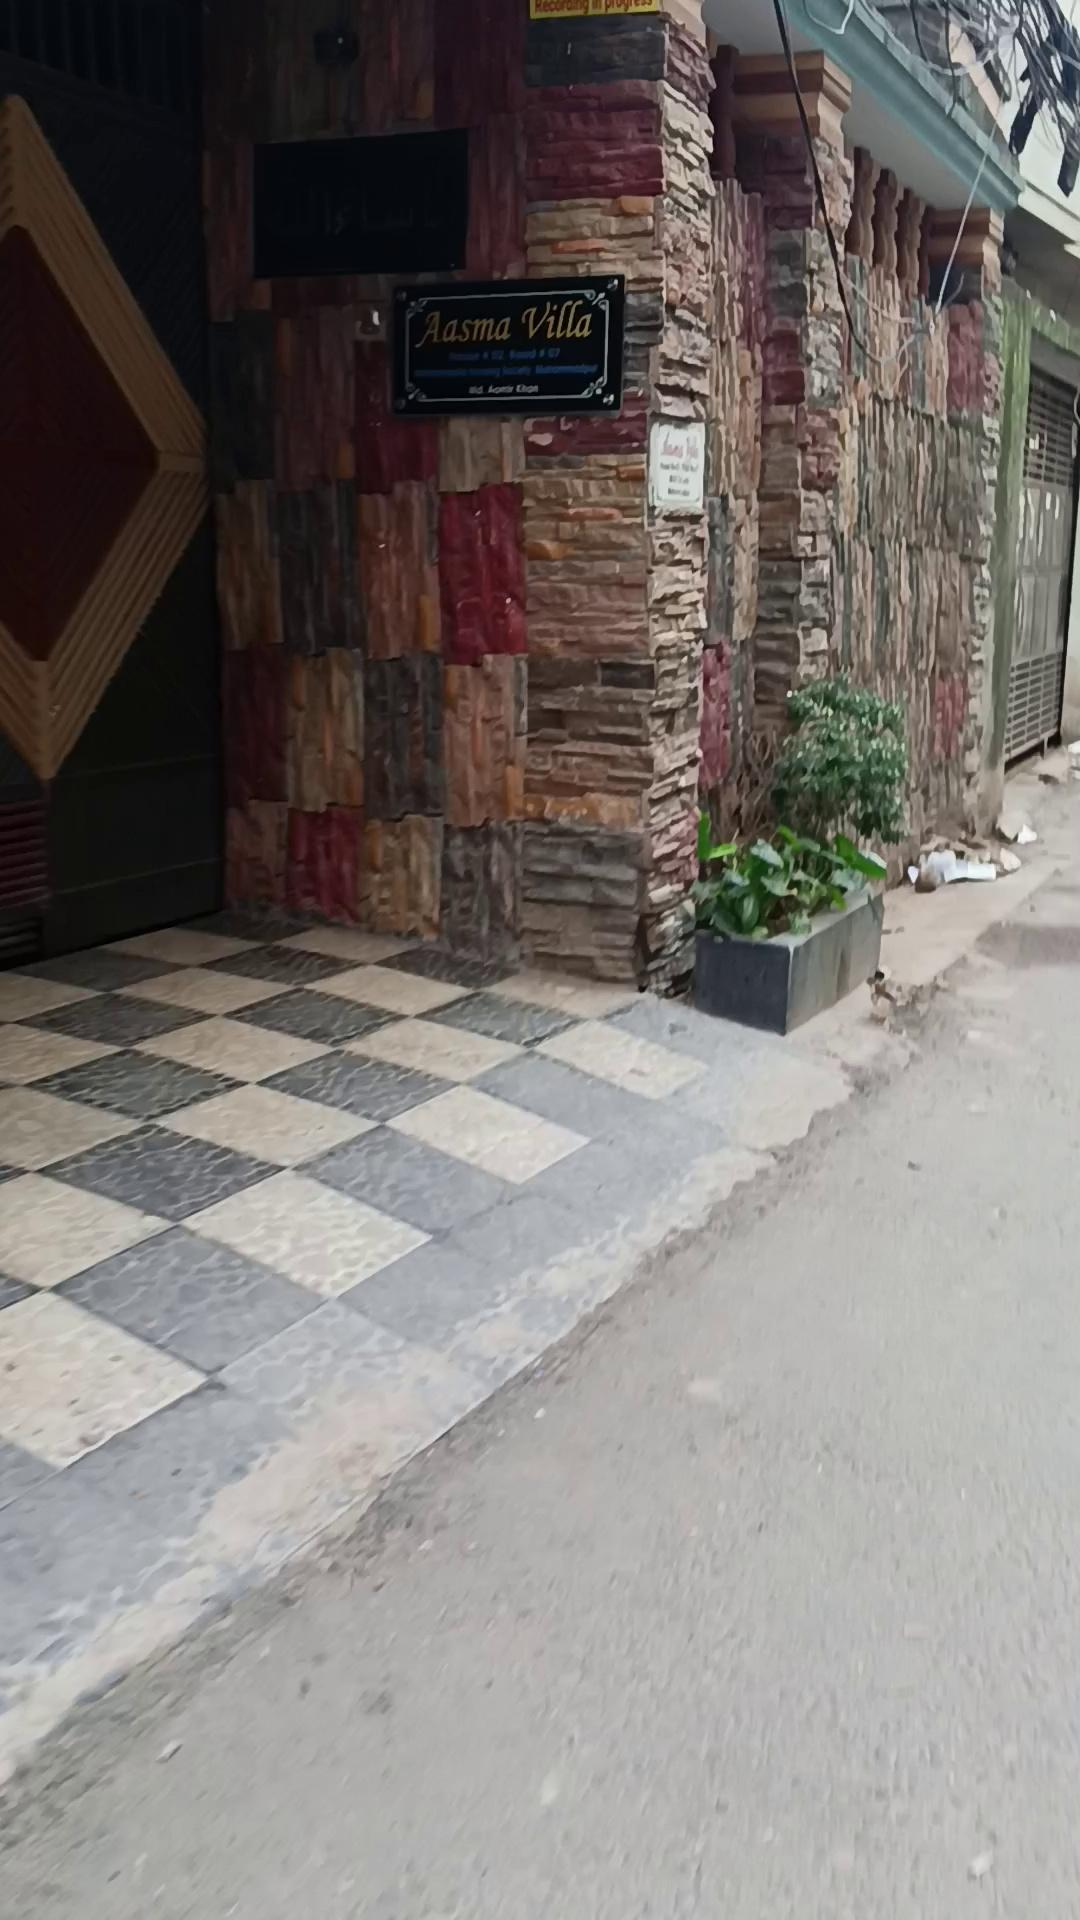Garbage: (906, 845, 997, 891)
Potted-plant: (3, 740, 1077, 1915)
